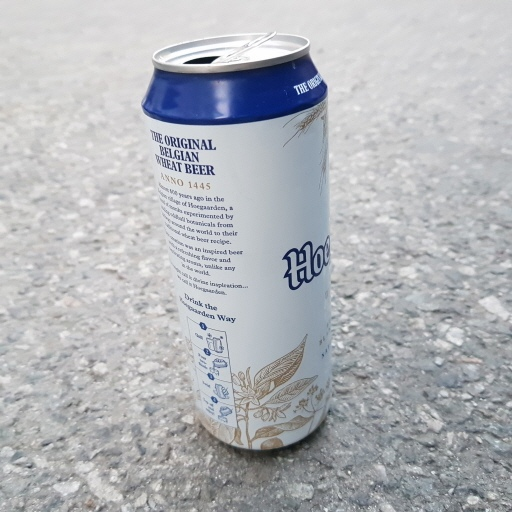Metal_0: (137, 28, 334, 455)
